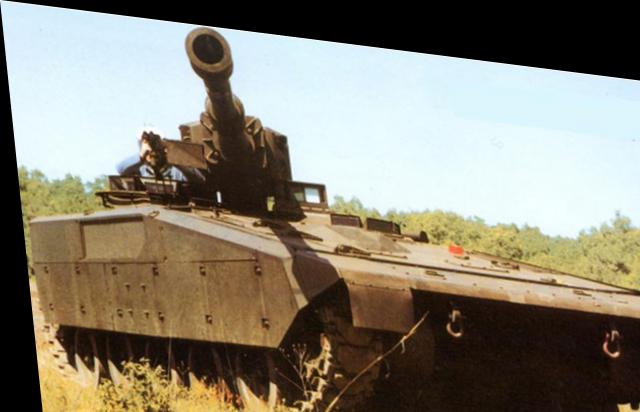tank: (18, 147, 640, 410)
